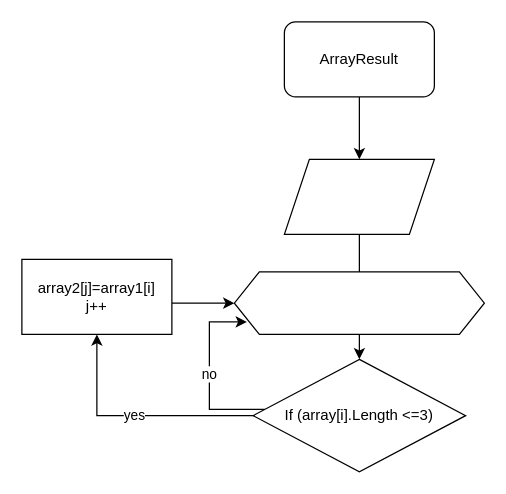
The diagram is 506 pixels wide and 494 high, and some of its shapes have lost their labels. The shapes that lost their labels are listed below. From the top down, each one's centre as x and y in pixels, then its label:
pixel 358 196: string [] array1 string[] array2 int j=0
pixel 358 302: for (int i=0; i<array.Length; i++)
